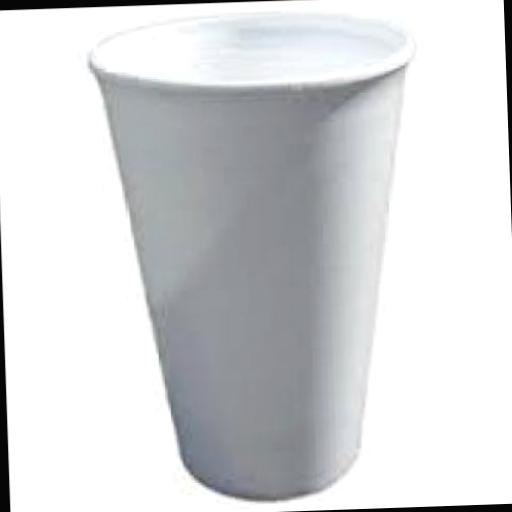paper: (82, 5, 424, 502)
